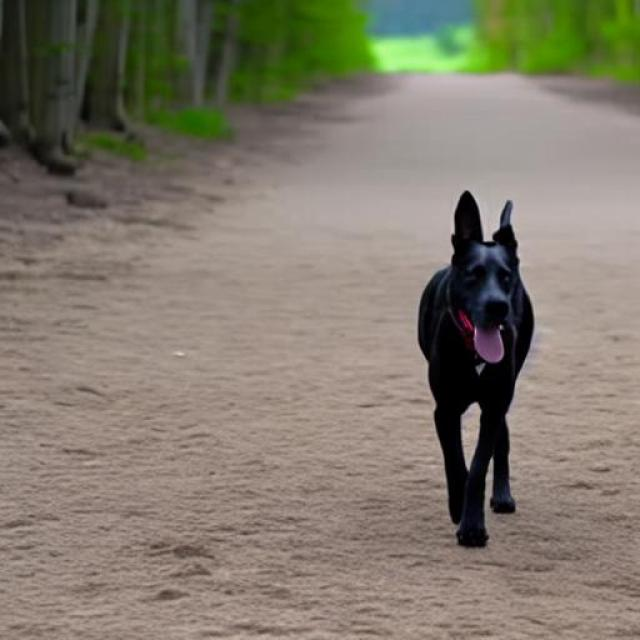Dog: (416, 190, 536, 548)
